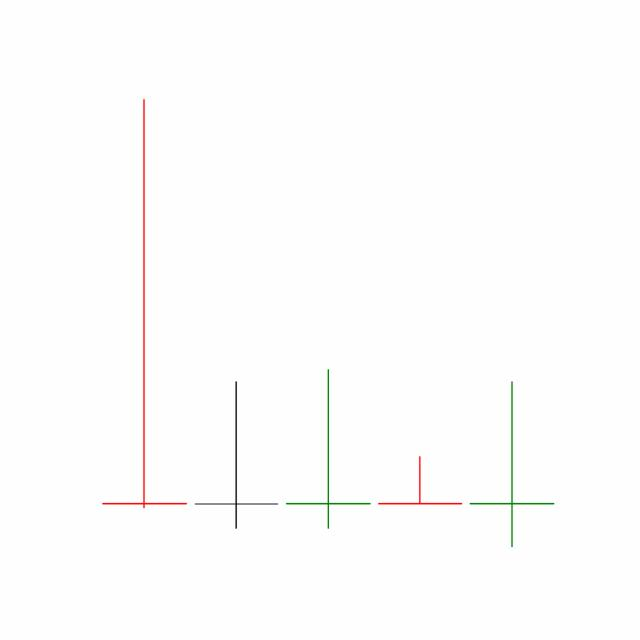Gravestone Doji: (373, 455, 467, 504)
